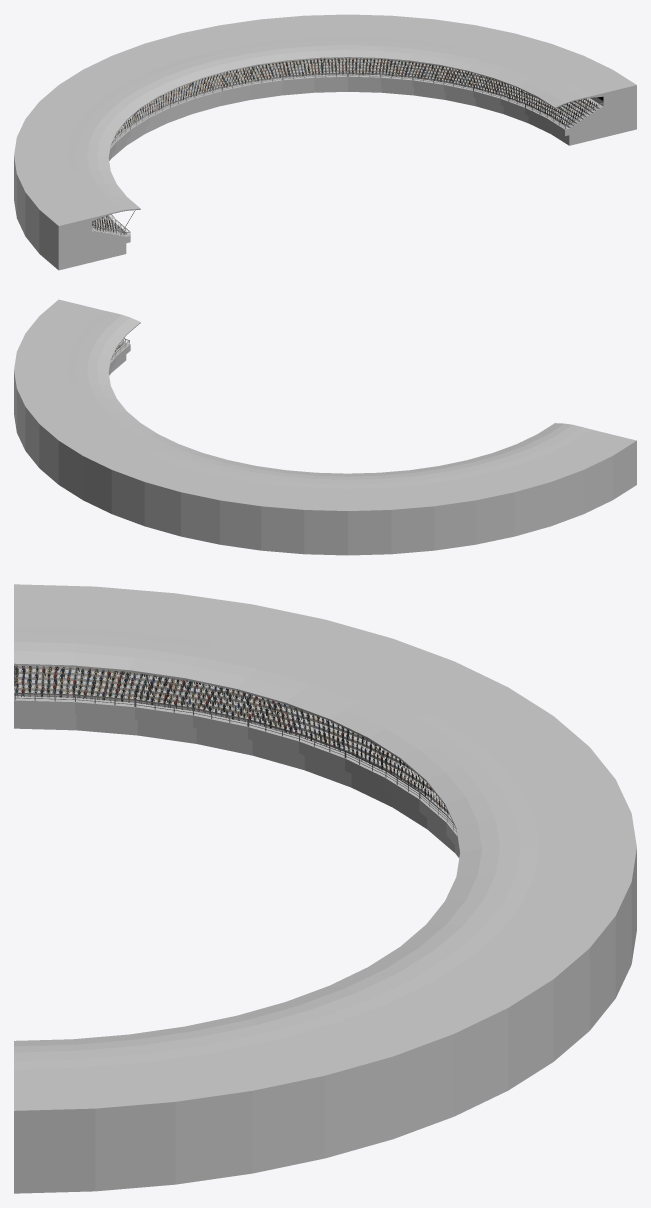
File: Stand-09-m.fbx
The picture shows the model from 3 angles, top to bottom: view 1: azimuth 30°, elevation 25°; view 2: azimuth 150°, elevation 25°; view 3: azimuth 270°, elevation 25°; orthographic projection. The views are drawn at different scales.
Visible parts, largest first — view 1: Stand-09-m, Audience; view 2: Stand-09-m; view 3: Stand-09-m, Audience.
Boxes of the visible parts, box(x1,y1,x2,y2) form: Stand-09-m: box(14, 14, 636, 270); Audience: box(92, 58, 597, 234); Stand-09-m: box(14, 299, 636, 555); Stand-09-m: box(14, 584, 636, 1193); Audience: box(15, 665, 448, 815).
Bounding box in the file's own units: 21497 × 1584 × 10749.
